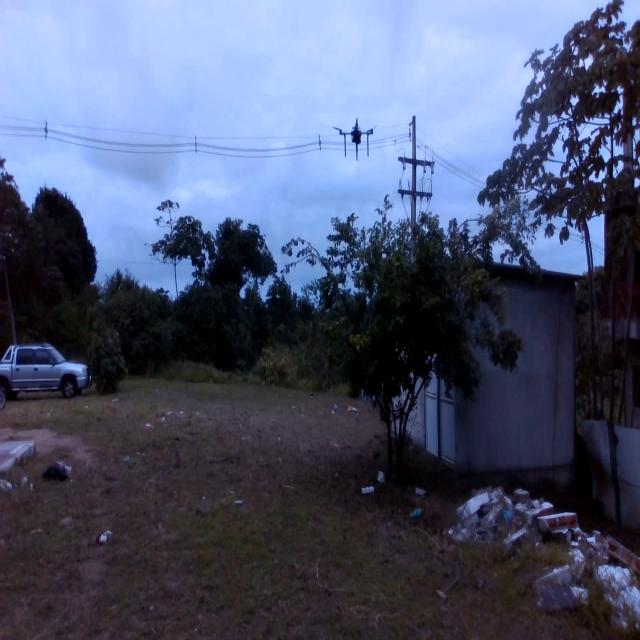-uav-: (327, 111, 381, 159)
